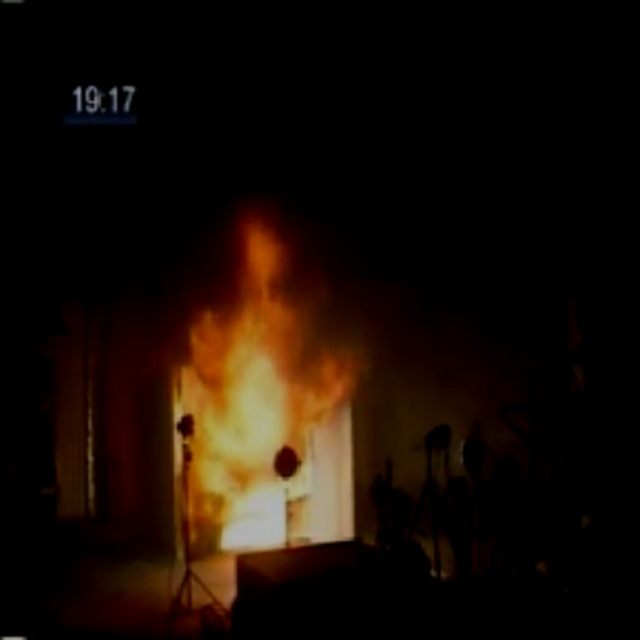fire: (173, 214, 343, 499)
smoke: (0, 4, 640, 267)
